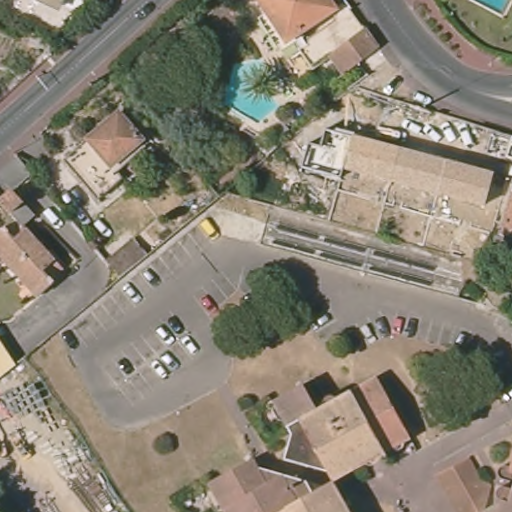pool: (223, 59, 278, 120), (468, 1, 511, 18)
